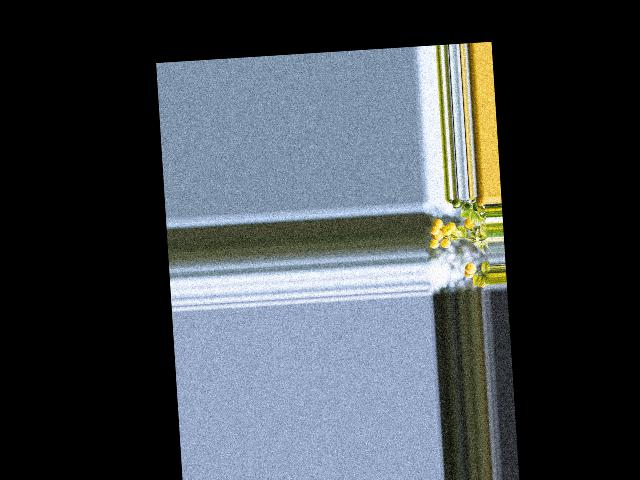lemon: (429, 219, 443, 230)
